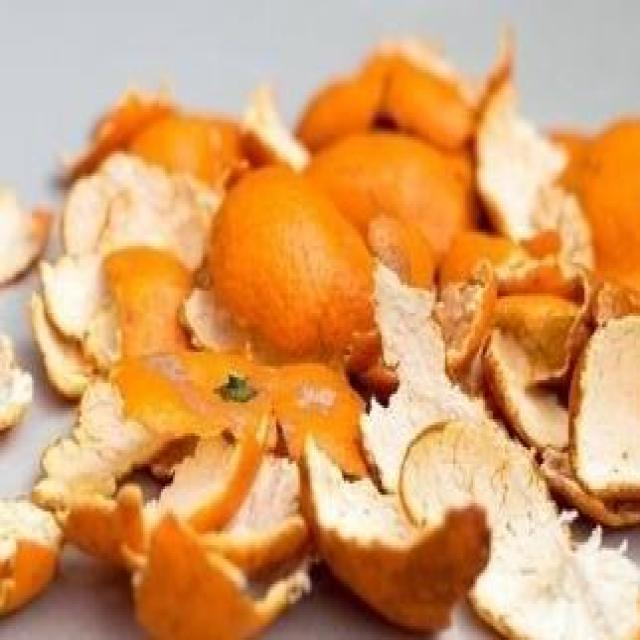Wet Waste: (2, 31, 638, 637)
